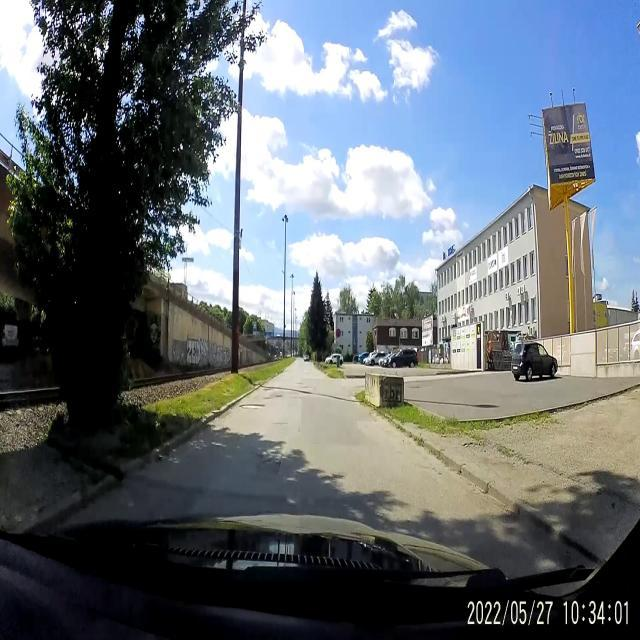Pothole: (258, 450, 284, 473), (238, 396, 264, 416), (264, 389, 285, 402)
